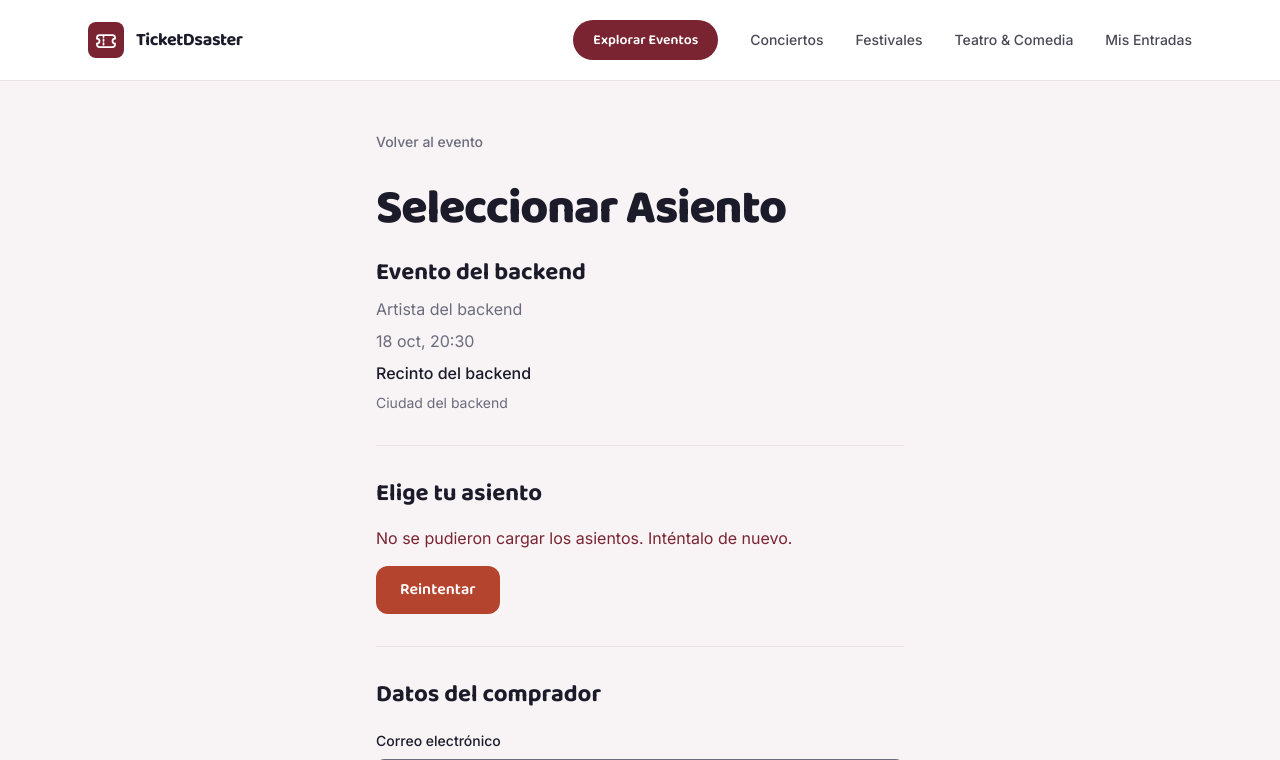
seat availability › retries the seat request when loading fails
Check: the message shows "No se pudieron cargar los asientos.", box 376,528 -> 792,548
Click the button "Reintentar" at (438, 590), box 376,566 -> 500,614
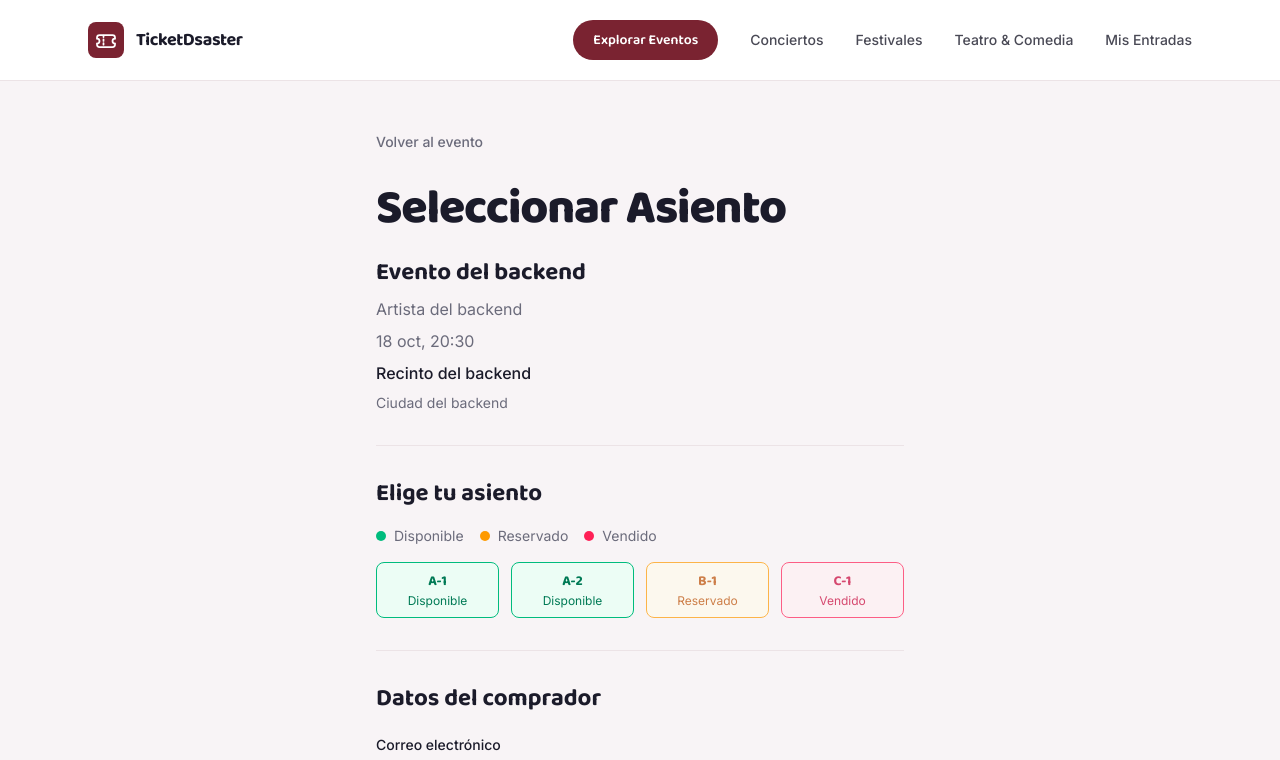
Check: the radio button with aria-label "A-1, Disponible" is enabled, box 376,562 -> 499,618
